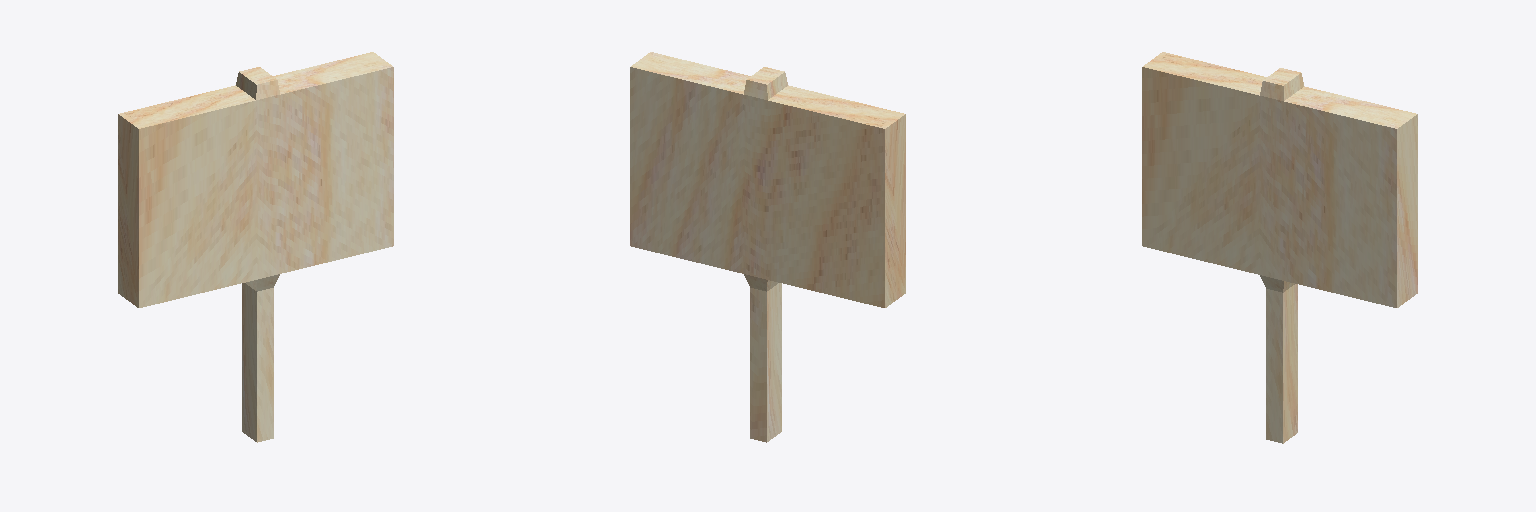
The picture shows the model from 3 angles: view 1: azimuth 30°, elevation 25°; view 2: azimuth 150°, elevation 25°; view 3: azimuth 330°, elevation 25°; orthographic projection.
Visible parts, largest first — view 1: Cube; view 2: Cube; view 3: Cube.
Boxes of the visible parts, box(x1,y1,x2,y2) form: Cube: box(118, 52, 393, 442); Cube: box(630, 52, 905, 442); Cube: box(1142, 52, 1417, 443).
Size of the model in its own units: 7.87 by 10.61 by 1.1.
Materials: 1 (1 with a texture image).